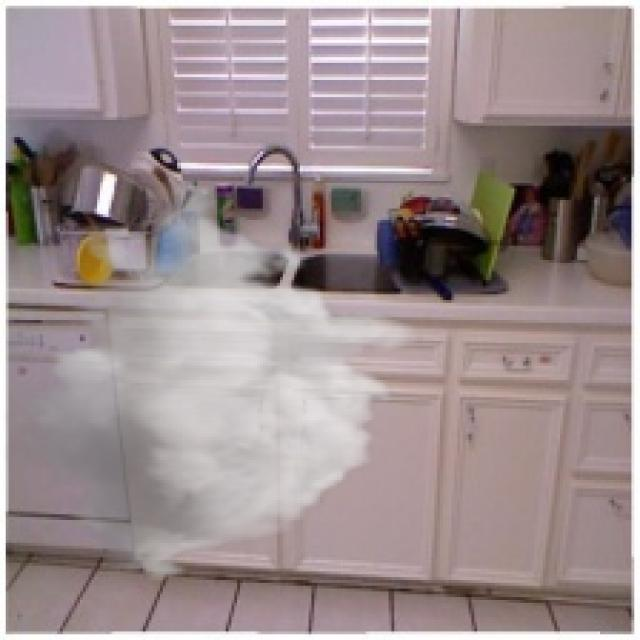smoke: (3, 183, 423, 586)
